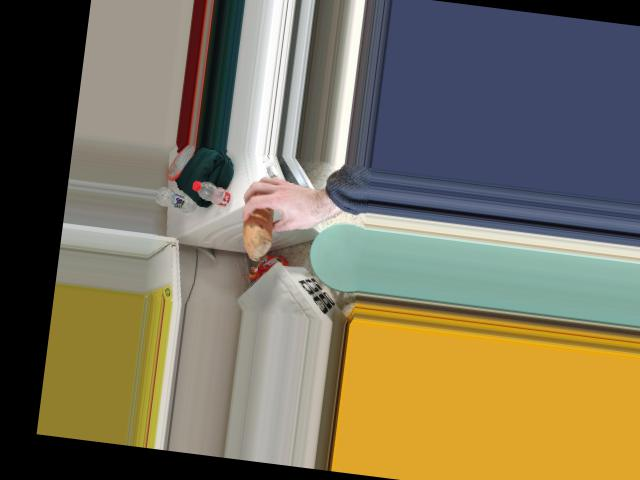sweet_potato: (240, 202, 275, 250)
